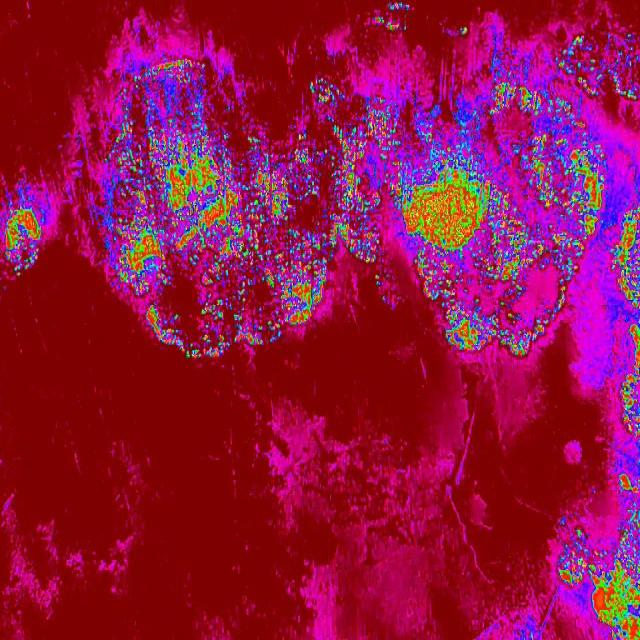fire: (396, 45, 608, 356), (99, 58, 252, 293), (251, 78, 403, 294), (608, 150, 640, 526), (140, 295, 313, 361), (551, 526, 640, 640), (0, 170, 60, 280), (608, 26, 640, 110)
